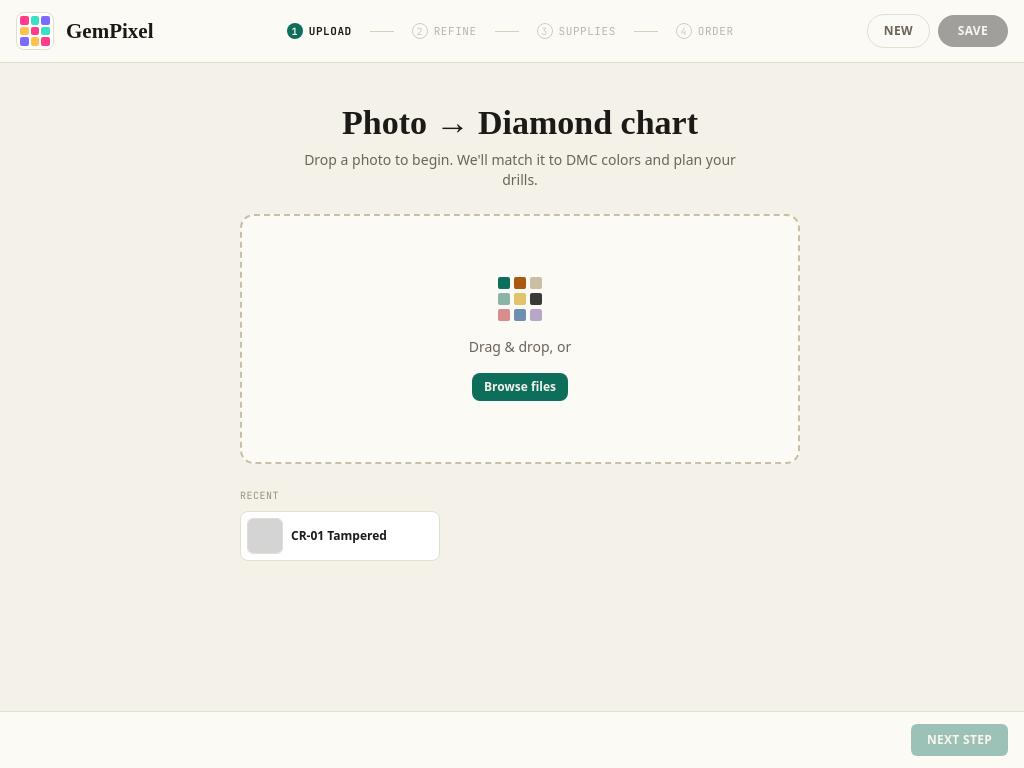
Scenario: Populated supply report + relocated "Why these bags?" expander › does not white-screen when a loaded project has a non-finite kitBaseCost (CR-01)
Click the button "CR-01 Tampered".
click(317, 536)  # box [247,518,387,554]
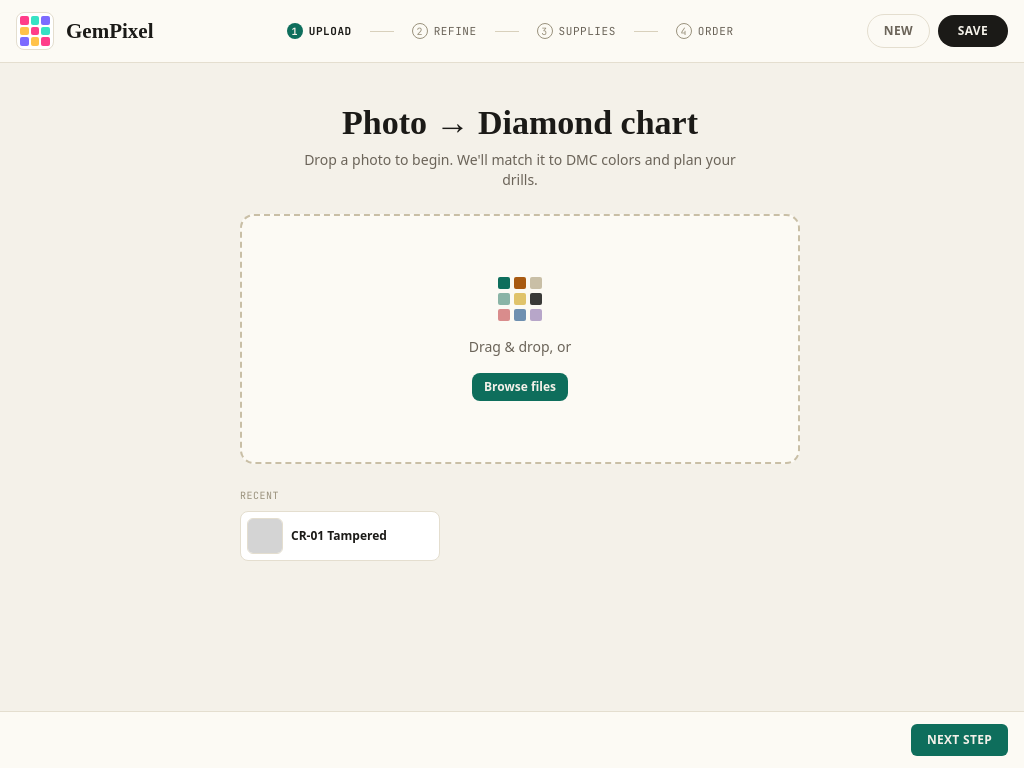
Click the button with id "wizard-next-btn".
click(959, 740)  # box [911,724,1008,756]
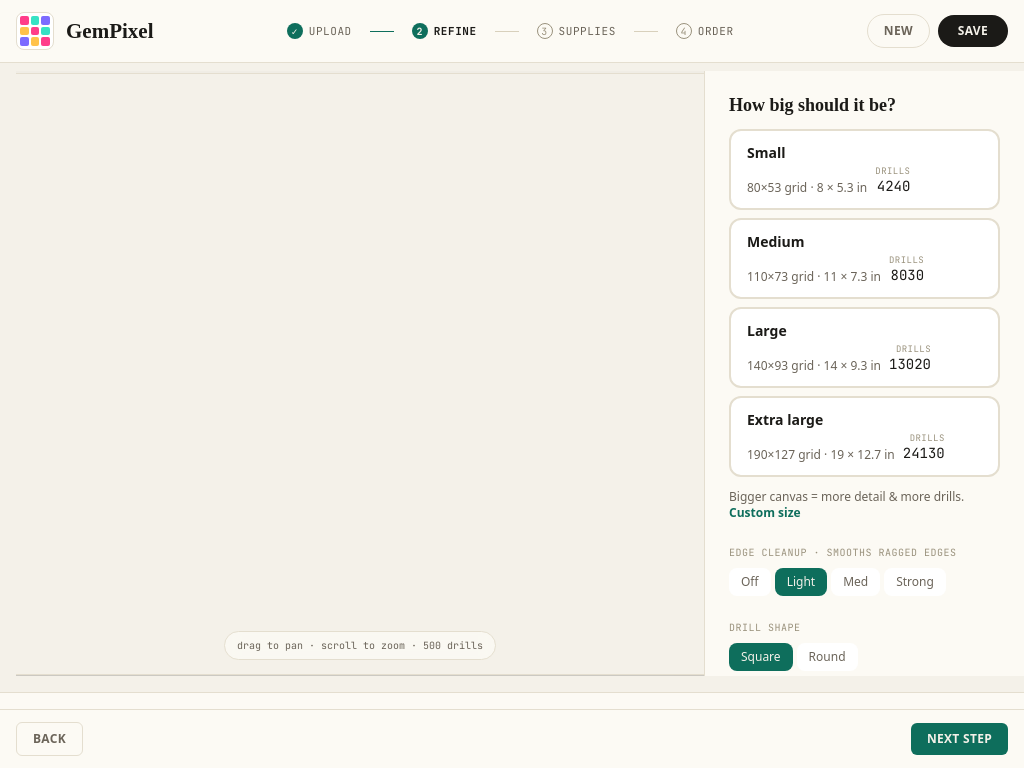
Click the button with id "wizard-next-btn".
click(959, 739)  # box [911,723,1008,755]
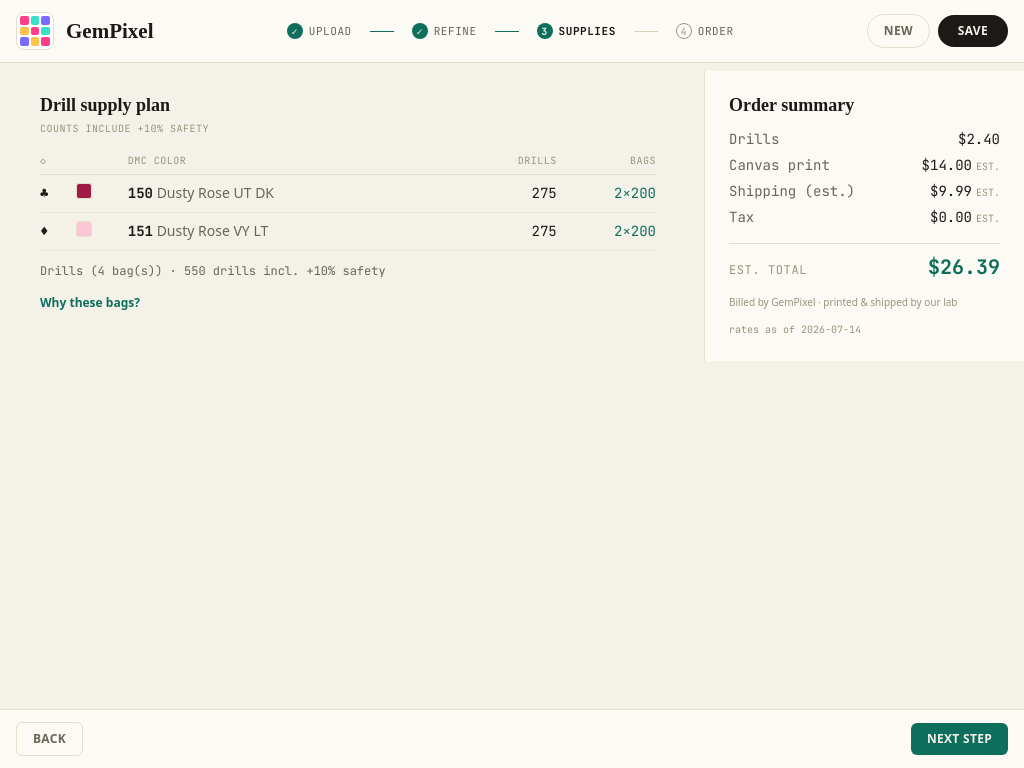
Result: the text "Est. total" is shown at [729,262,807,278]
Result: the text "$2.40" is shown at [958,129,1000,149]
